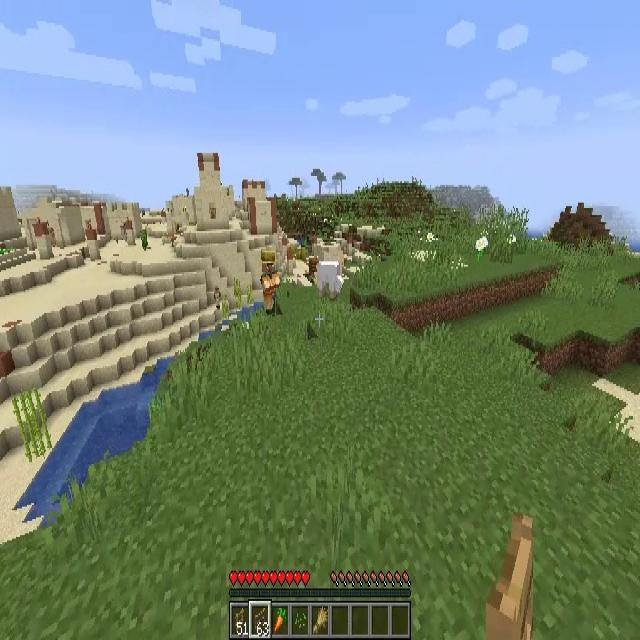flower: (477, 236, 488, 263)
sheep: (319, 262, 344, 300)
